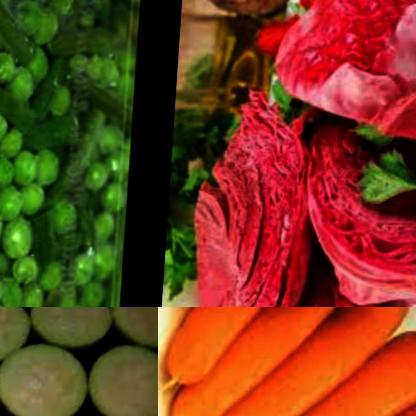cabbage: (163, 102, 325, 307), (252, 0, 416, 154), (294, 122, 416, 307), (242, 287, 412, 307)
carrot: (175, 307, 416, 416), (186, 307, 391, 416), (190, 326, 416, 416), (160, 307, 344, 403), (180, 391, 416, 416)
hot pepper: (245, 16, 302, 62), (281, 0, 336, 15)
peas: (0, 0, 144, 307)
vegetable marrow: (0, 333, 99, 416), (82, 335, 158, 416), (29, 307, 125, 359), (0, 307, 39, 365), (109, 307, 158, 348)
